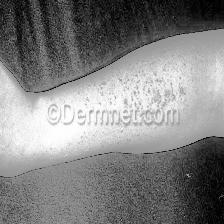Benign Marking or Mole: (120, 69, 187, 107)
